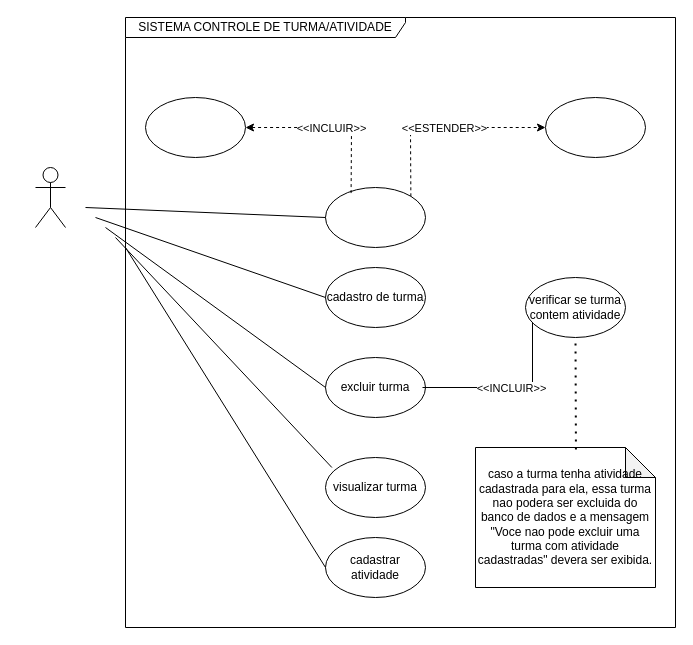
Some shapes in this 693 by 645 pixel diagram are drawn without their labels. Here are the shapes that lost their labels. From the top down, the box of each, then its label:
(144, 96, 246, 158): verificar email/senha
(544, 96, 646, 158): exibir erro de login
(34, 166, 66, 228): Professor(a)
(324, 186, 426, 248): logar no sistema
